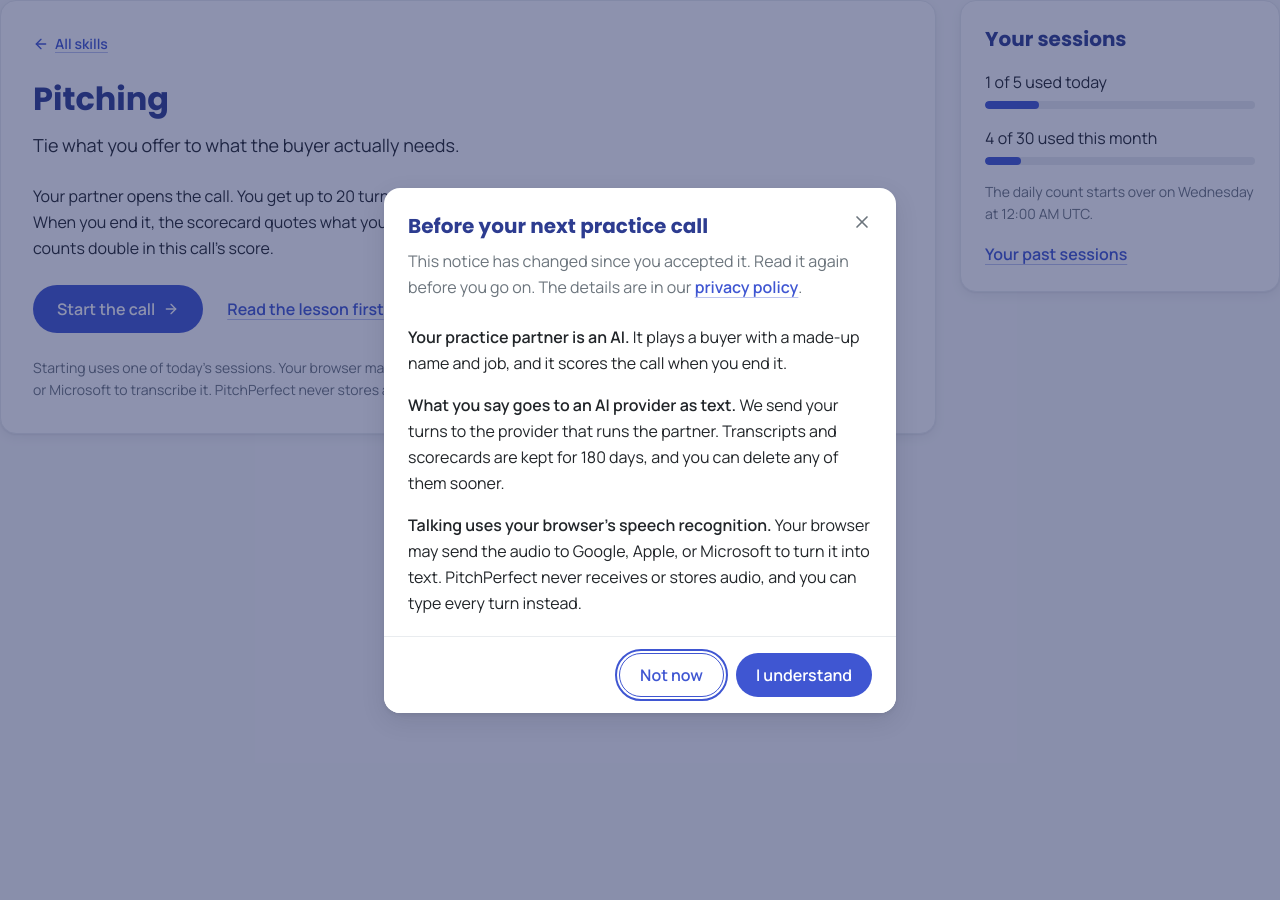
Test: ConsentDialog › asks again, worded for a live model, once the scripted partner is replaced
Check: the dialog "Before your next practice call" shows "Your practice partner is an AI", box [408,326,630,348]
Check: the dialog "Before your next practice call" shows "goes to an AI provider", box [408,394,736,416]
Click the button "Not now" at coordinates (672, 674), box [619,652,724,696]
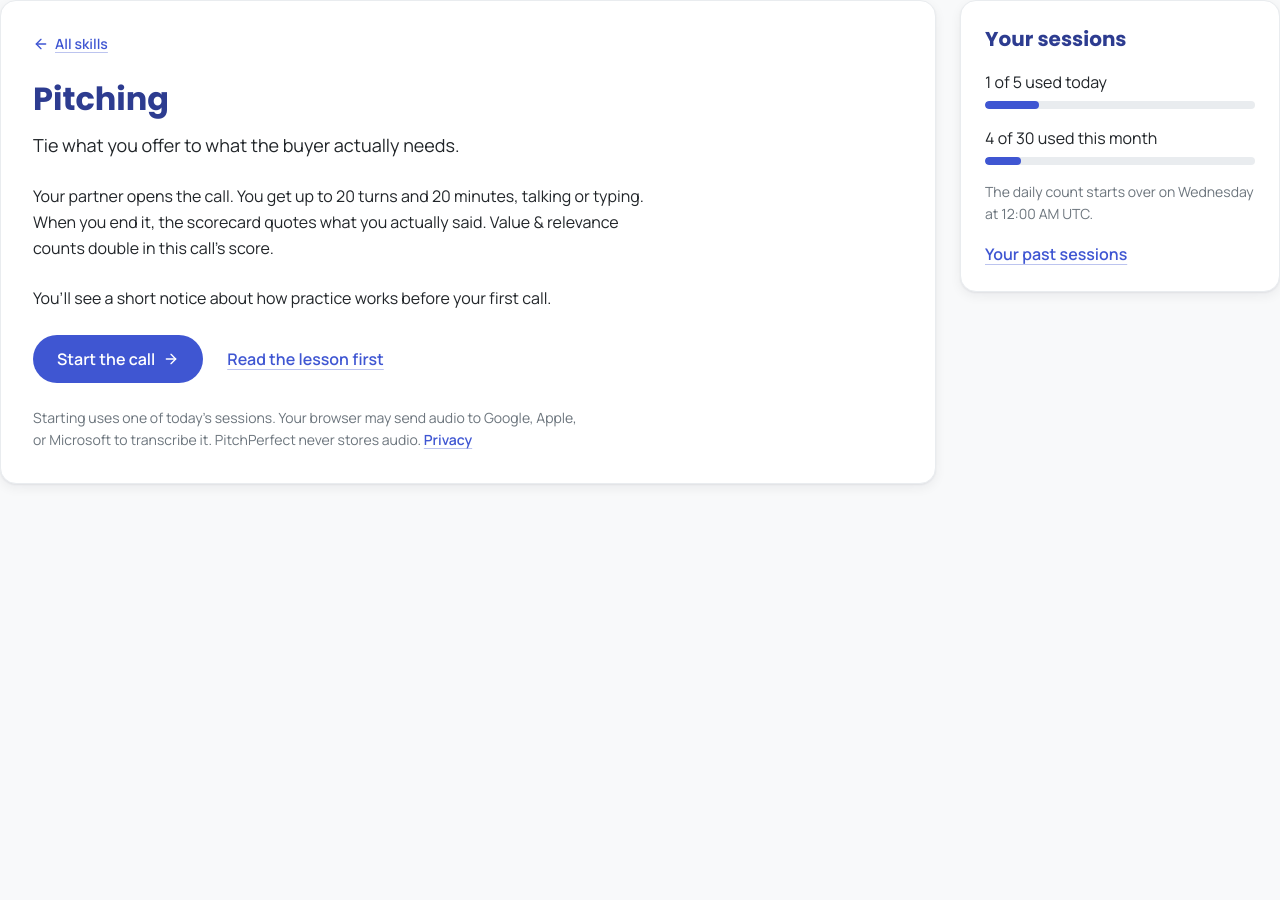
Click the button "Start the call" at coordinates (118, 359), box [33,335,203,383]
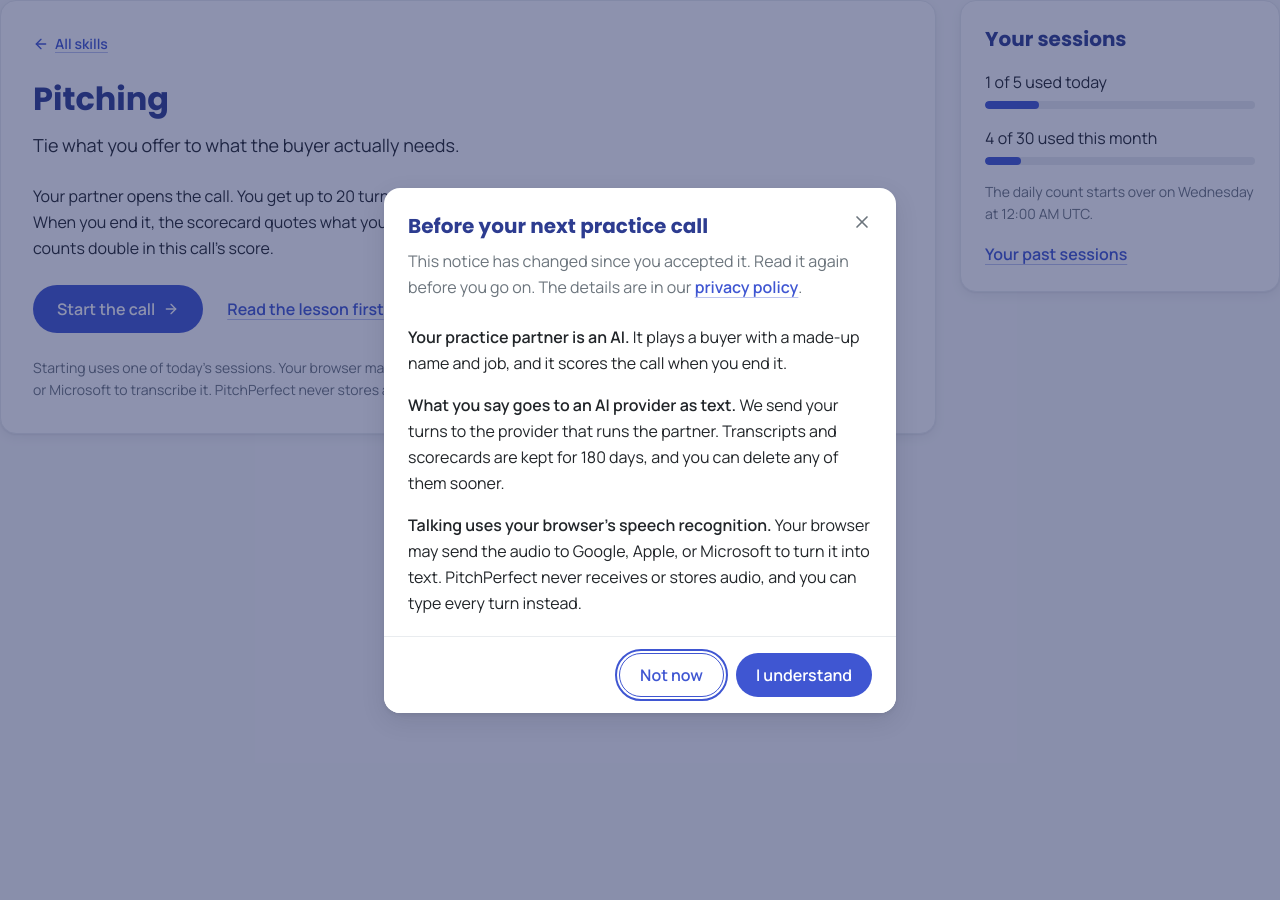
Check: the dialog "Before your next practice call" is shown, box [384,188,896,712]
Click the button "I understand" at coordinates (804, 674), box [736,652,872,696]
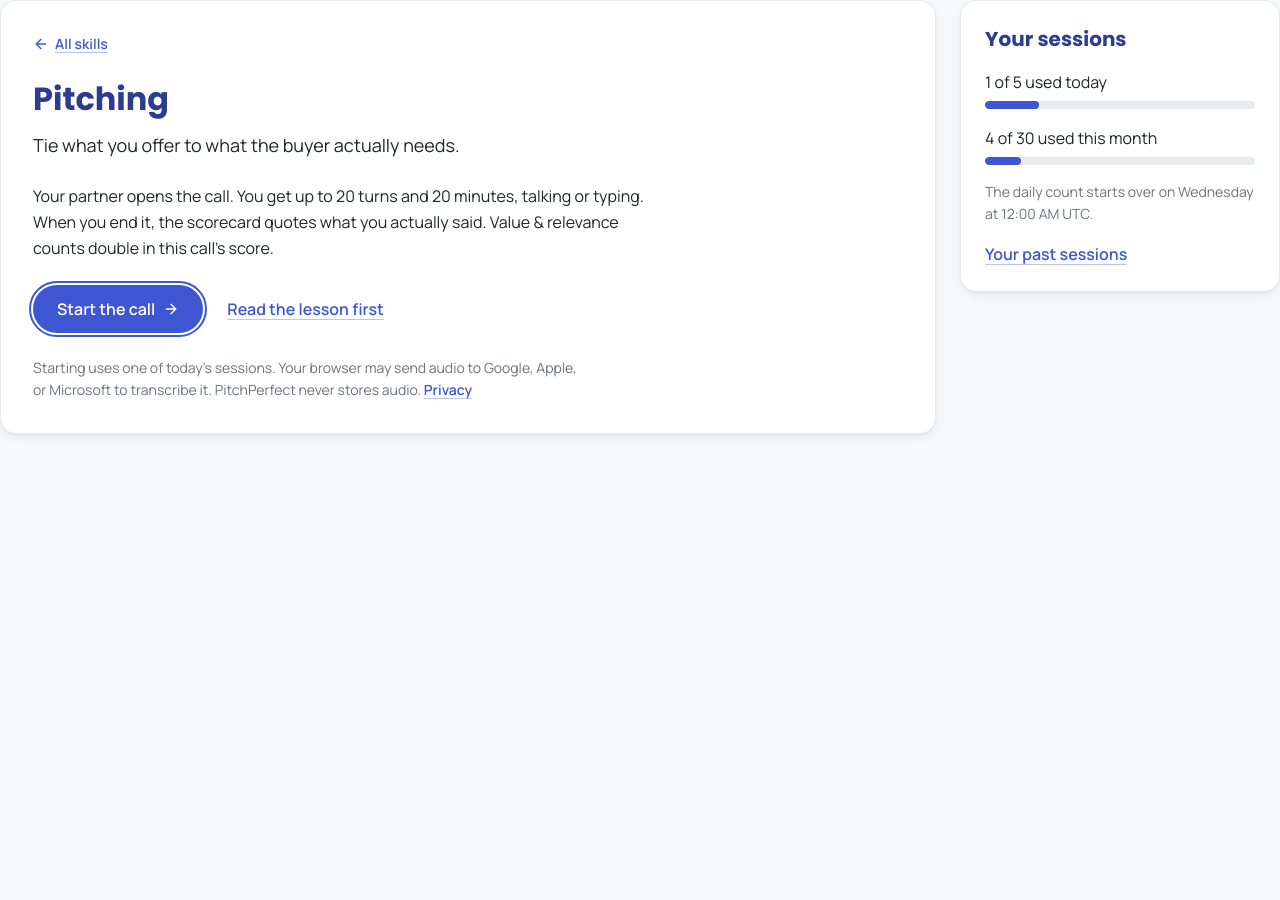
Check: the dialog is gone
